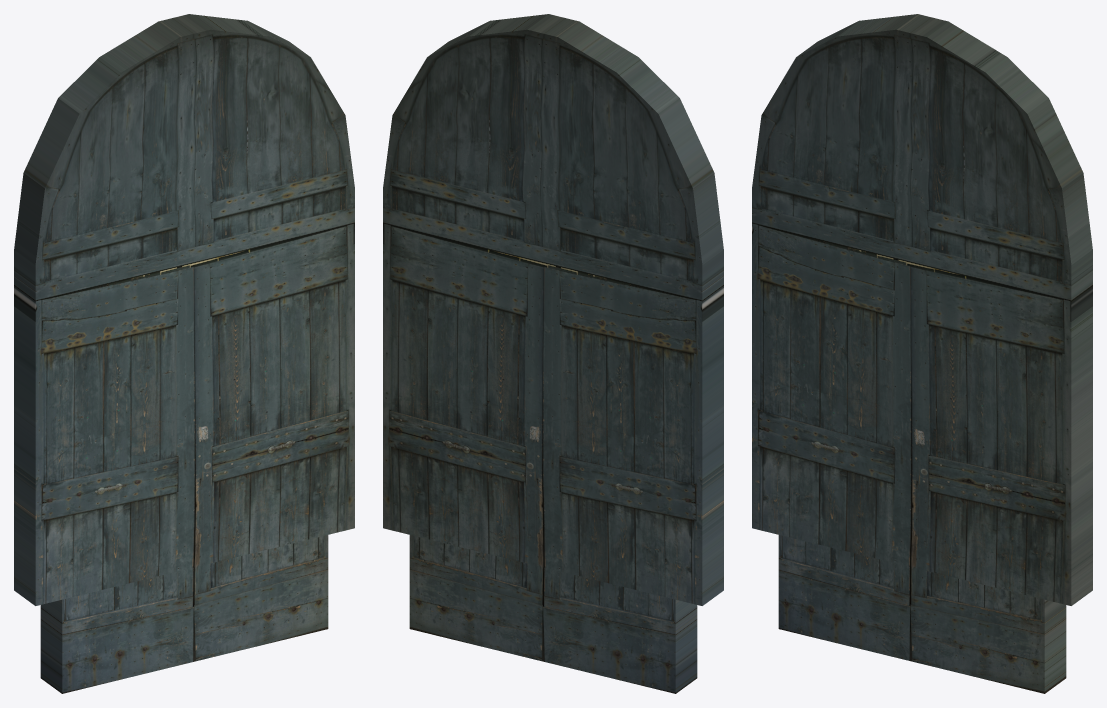
File: Door.fbx
The picture shows the model from 3 angles, left to right: view 1: azimuth 30°, elevation 25°; view 2: azimuth 150°, elevation 25°; view 3: azimuth 330°, elevation 25°; orthographic projection.
Parts seen in each view (by area): view 1: Door; view 2: Door; view 3: Door.
Part boxes in pixels (box(x1,y1,x2,y2)): Door: box(14, 14, 354, 693); Door: box(383, 14, 723, 693); Door: box(752, 14, 1092, 693).
Bounding box in the file's own units: 4.47 × 8.41 × 0.5212.
Materials: 1 (1 with a texture image).
